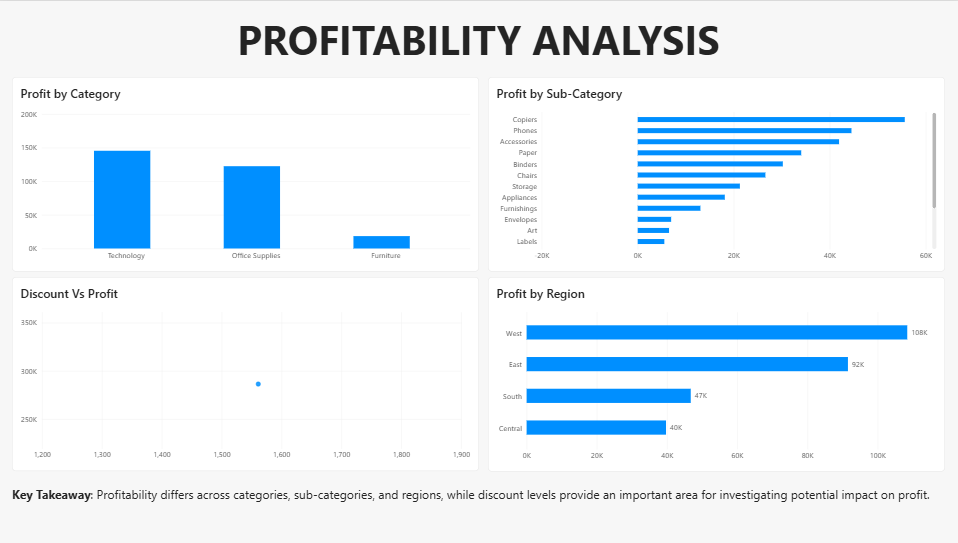

What the dashboard file says about the page in this screenshot:
{"tool":"powerbi","page":{"name":"3-Profitability Analysis","canvas":[1920,1080],"ordinal":3},"visuals":[{"type":"clusteredColumnChart","title":" Profit by Category","fields":{"Category":["SampleSuperstore.Category"],"Y":["Sum(SampleSuperstore.Profit)"]},"box":[29.5,152.2,930.5,387.9],"z":0},{"type":"textbox","box":[29.9,21.9,1860.2,115.6],"z":1},{"type":"clusteredBarChart","title":"Profit by Sub-Category","fields":{"Category":["SampleSuperstore.Sub-Category"],"Y":["Sum(SampleSuperstore.Profit)"]},"box":[979.6,152.2,910.9,387.9],"z":2},{"type":"scatterChart","title":" Discount Vs Profit","fields":{"X":["Sum(SampleSuperstore.Discount)"],"Y":["Sum(SampleSuperstore.Profit)"]},"box":[29.5,550,930.5,387],"z":3},{"type":"clusteredBarChart","title":"Profit by Region","fields":{"Category":["SampleSuperstore.Region"],"Y":["Sum(SampleSuperstore.Profit)"]},"box":[979.6,550,910.9,387.9],"z":4},{"type":"textbox","box":[29.5,967.4,1861.1,95.8],"z":5}]}

Visuals, with their boxes in screenshot pixels (x1, y1, x2, y2), scaled from the page's 1920x1080 canvas onto the 958x543 screenshot:
" Profit by Category" clusteredColumnChart: 15,77,479,272
textbox: 15,11,943,69
"Profit by Sub-Category" clusteredBarChart: 489,77,943,272
" Discount Vs Profit" scatterChart: 15,277,479,471
"Profit by Region" clusteredBarChart: 489,277,943,472
textbox: 15,486,943,535
